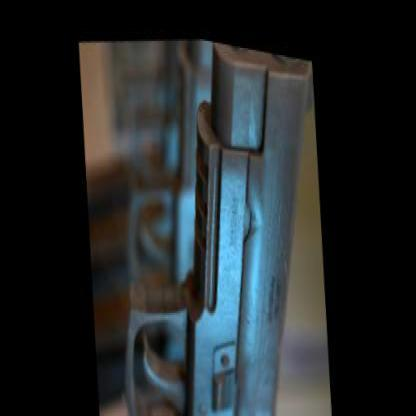pistol: (73, 11, 337, 414)
